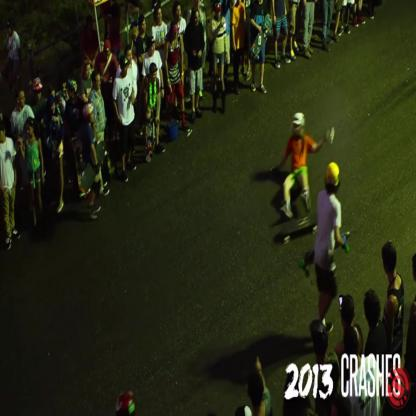Fall_Down: (268, 112, 335, 222)
